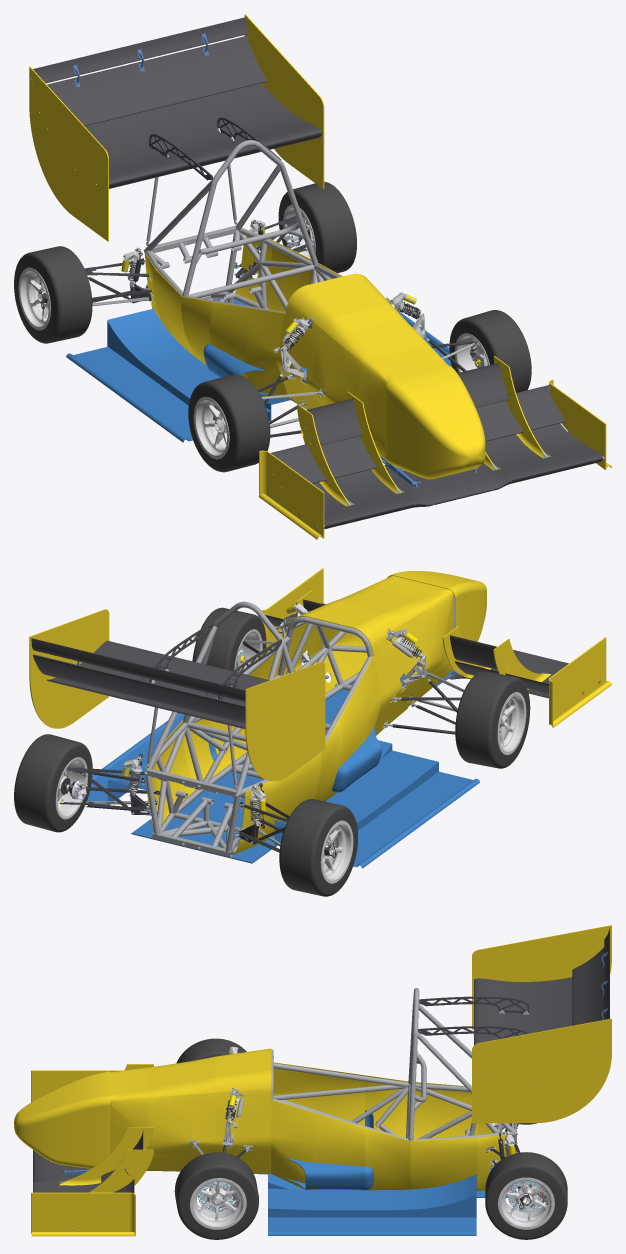
The picture shows the model from 3 angles, top to bottom: view 1: azimuth 30°, elevation 25°; view 2: azimuth 150°, elevation 25°; view 3: azimuth 270°, elevation 25°; orthographic projection. The views are drawn at different scales.
Visible parts, largest first — view 1: Main, Back_Wing, Front_wing, mesh562, Wheel_FR, Wheel_RR, Wheel_RL, Wheel_FL, Front, Rear, Main.001; view 2: Main, Back_Wing, mesh562, Front_wing, Wheel_RR, Wheel_FR, Wheel_RL, Rear, Front, Wheel_FL, Main.001; view 3: Main, Back_Wing, Front_wing, mesh562, Wheel_FL, Wheel_RL, Main.002, Front, Rear, Wheel_FR.
Part boxes in pixels (x1,y1,x2,y2): Main: (66, 233, 485, 479); Back_Wing: (29, 14, 324, 245); Front_wing: (258, 356, 611, 539); mesh562: (143, 140, 340, 406); Wheel_FR: (188, 374, 270, 472); Wheel_RR: (14, 246, 92, 343); Wheel_RL: (278, 181, 356, 273); Wheel_FL: (449, 310, 531, 394); Front: (213, 292, 487, 437); Rear: (38, 213, 313, 308); Main.001: (203, 343, 274, 395); Main: (87, 571, 486, 868); Back_Wing: (29, 609, 325, 863); mesh562: (144, 593, 454, 857); Front_wing: (258, 568, 611, 727); Wheel_RR: (279, 799, 357, 896); Wheel_FR: (455, 671, 530, 768); Wheel_RL: (14, 734, 92, 832); Rear: (57, 753, 336, 857); Front: (236, 603, 507, 734); Wheel_FL: (192, 607, 266, 670); Main.001: (332, 727, 381, 792); Main: (14, 1048, 510, 1235); Back_Wing: (418, 925, 611, 1128); Front_wing: (31, 1064, 162, 1236); mesh562: (189, 988, 518, 1184); Wheel_FL: (174, 1152, 258, 1239); Wheel_RL: (485, 1152, 567, 1239); Main.002: (280, 1158, 373, 1190); Front: (192, 1046, 249, 1212); Rear: (489, 1123, 546, 1212); Wheel_FR: (176, 1038, 246, 1063).
Size of the model in its own units: 1.54 by 1.11 by 2.94.
